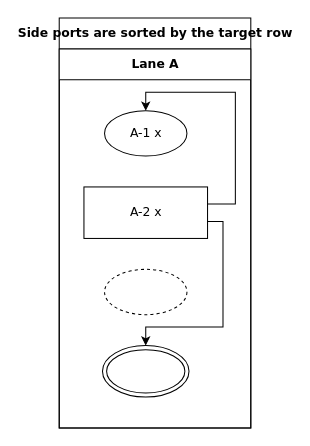
Image size: 310x446. Some labels were removed from this diagram. Each missing label, with the box of its shape:
A-3 x: (104, 268, 187, 315)
A-4 x: (101, 345, 189, 397)
